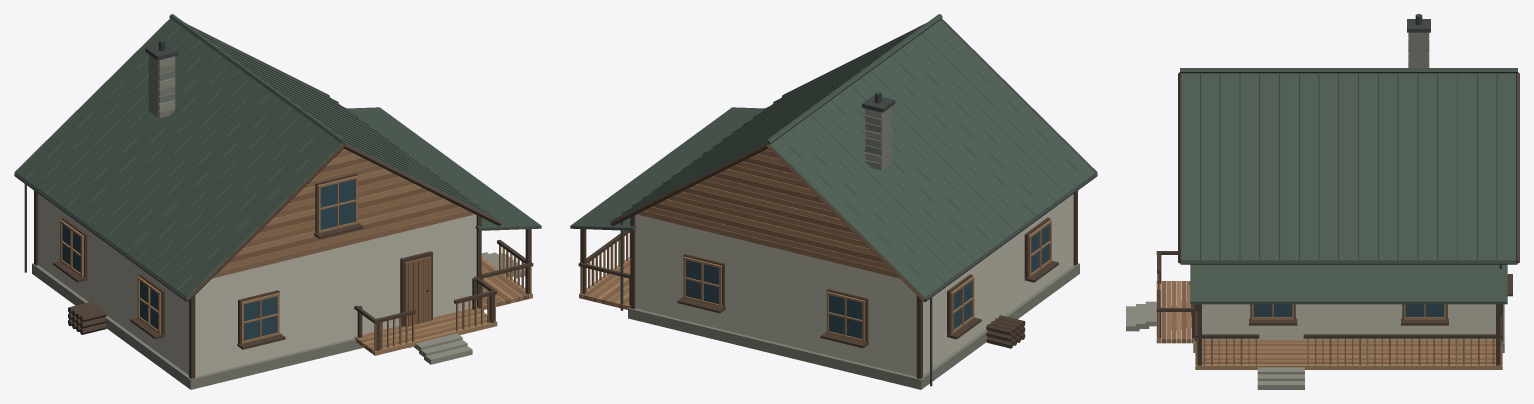
File: 05_casa_galeria.glb
The picture shows the model from 3 angles, left to right: view 1: azimuth 30°, elevation 25°; view 2: azimuth 150°, elevation 25°; view 3: azimuth 270°, elevation 25°; orthographic projection. The views are drawn at different scales.
Visible parts, largest first — view 1: 05_casa_galeria; view 2: 05_casa_galeria; view 3: 05_casa_galeria.
Part boxes in pixels (box(x1,y1,x2,y2)): 05_casa_galeria: box(14, 14, 541, 389); 05_casa_galeria: box(570, 14, 1097, 389); 05_casa_galeria: box(1126, 14, 1519, 389).
Size of the model in its own units: 13.3 by 7.8 by 11.66.
